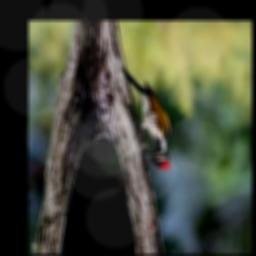Woodpecker: (121, 69, 170, 169)
